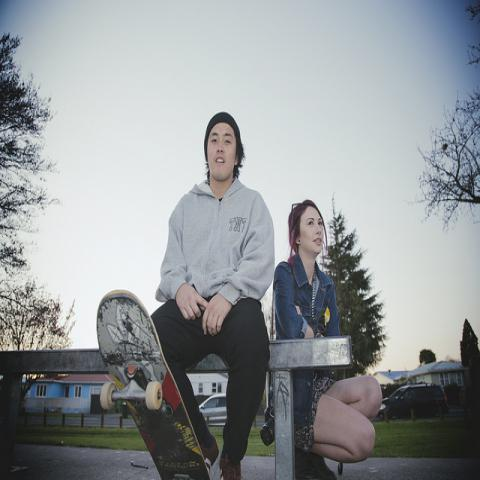car: (386, 377, 445, 421), (198, 392, 228, 421)
